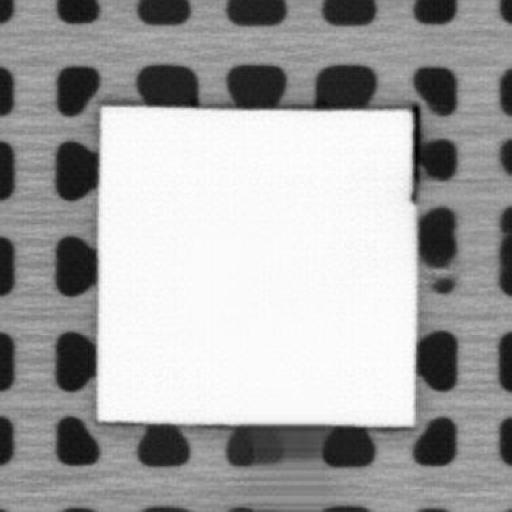DIE_BROKEN: (406, 103, 420, 205)
